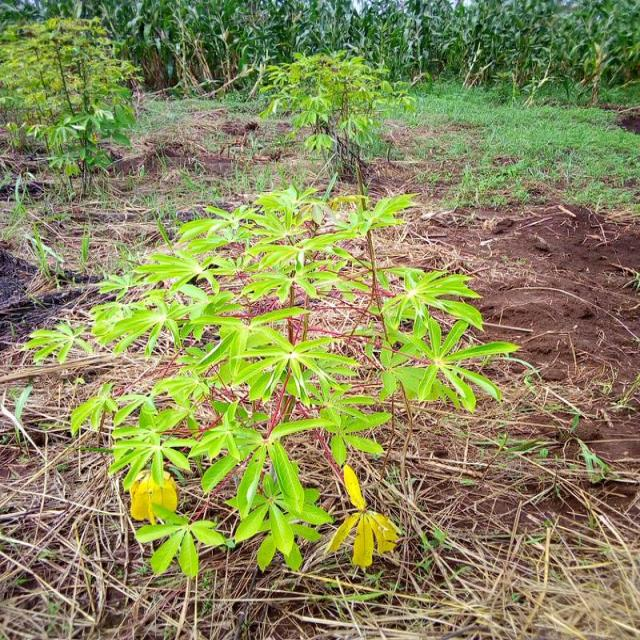cassava leaf: (38, 175, 531, 578)
